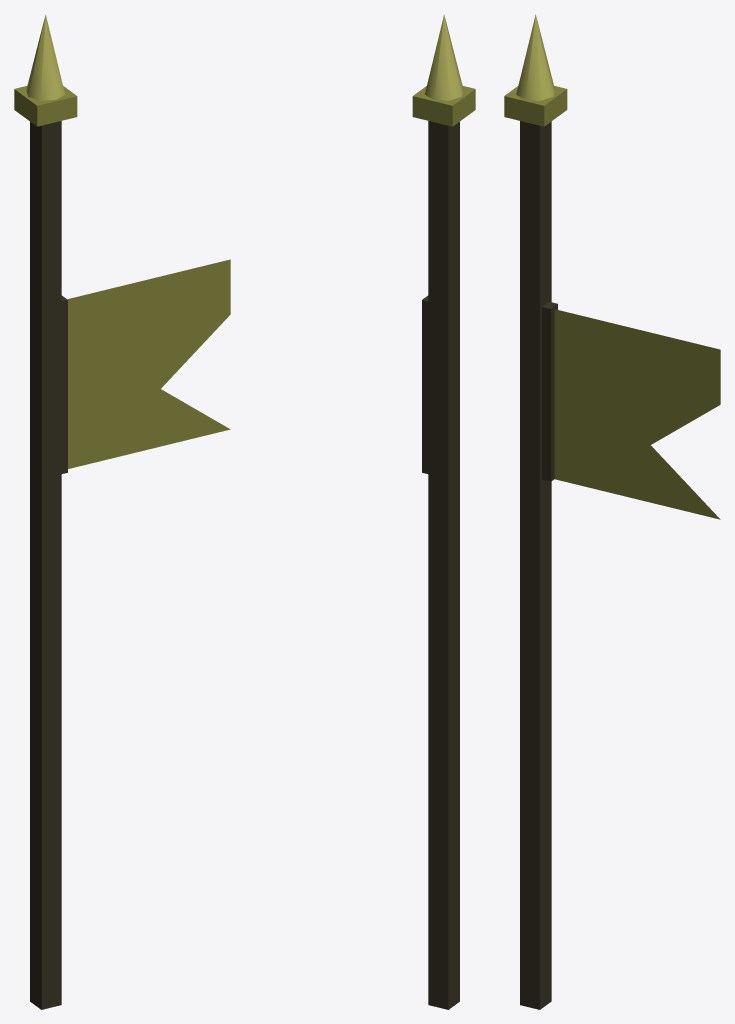
Rendered from village_banner.glb.
3 views of the same model, side by side, from view 1: azimuth 30°, elevation 25°; view 2: azimuth 150°, elevation 25°; view 3: azimuth 330°, elevation 25° (orthographic).
Visible parts, largest first — view 1: banner_pole, banner_cloth, banner_spire, banner_collar, banner_hem; view 2: banner_pole, banner_spire, banner_collar, banner_hem; view 3: banner_pole, banner_cloth, banner_hem, banner_spire, banner_collar.
Boxes of the visible parts, x1,y1,x2,y2 form: banner_pole: (30, 121, 61, 1009); banner_cloth: (67, 259, 230, 468); banner_spire: (26, 14, 64, 100); banner_collar: (14, 86, 77, 126); banner_hem: (61, 295, 67, 473); banner_pole: (428, 121, 459, 1009); banner_spire: (425, 14, 463, 100); banner_collar: (412, 86, 475, 126); banner_hem: (422, 295, 428, 473); banner_pole: (520, 121, 551, 1009); banner_cloth: (554, 309, 720, 519); banner_hem: (542, 301, 557, 481); banner_spire: (516, 14, 555, 100); banner_collar: (504, 85, 567, 126).
Size of the model in its own units: 0.82 by 3.78 by 0.16.
